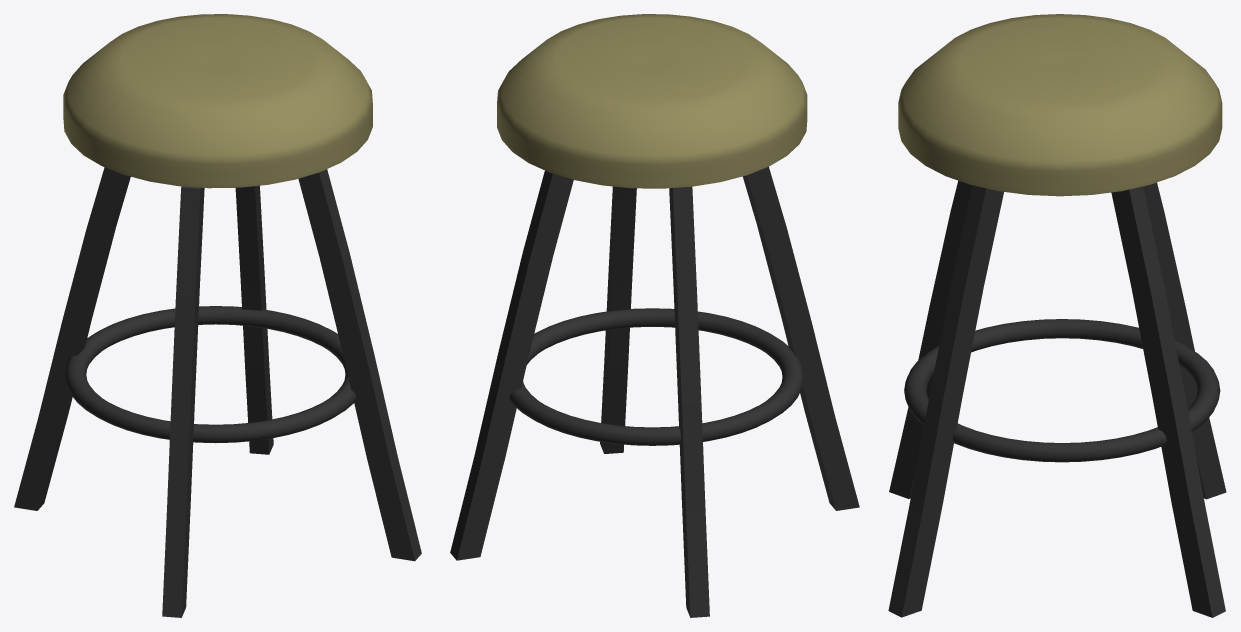
Rendered from Stool(1).fbx.
3 views of the same model, side by side, from view 1: azimuth 30°, elevation 25°; view 2: azimuth 150°, elevation 25°; view 3: azimuth 270°, elevation 25° (orthographic). The views are drawn at different scales.
Visible parts, largest first — view 1: Stool; view 2: Stool; view 3: Stool.
Part boxes in pixels (x1,y1,x2,y2): Stool: (14,14,421,617); Stool: (450,14,859,617); Stool: (888,14,1226,617).
Size of the model in its own units: 178 by 298 by 186.
